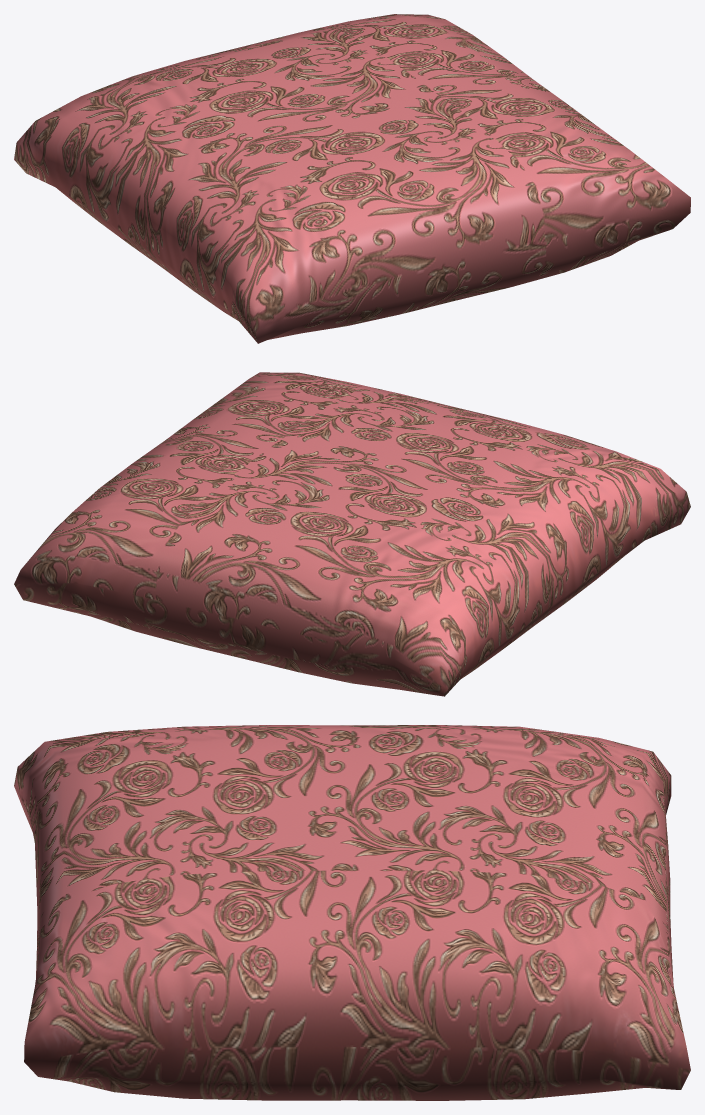
The model's file is NNJ0810009.fbx.
3 renders of one model, top to bottom at view 1: azimuth 30°, elevation 25°; view 2: azimuth 150°, elevation 25°; view 3: azimuth 270°, elevation 25°, orthographic. The views are drawn at different scales.
Visible parts, largest first — view 1: smNNJ0810009; view 2: smNNJ0810009; view 3: smNNJ0810009.
Boxes of the visible parts, box(x1,y1,x2,y2) form: smNNJ0810009: box(14, 14, 690, 343); smNNJ0810009: box(14, 372, 690, 696); smNNJ0810009: box(14, 725, 690, 1100).
Size of the model in its own units: 138 by 42.01 by 136.
1 material, 1 textured.
